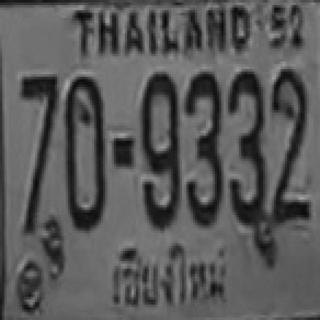N00: (140, 70, 178, 170)
N02: (228, 70, 263, 173)
N07: (20, 73, 57, 160)
P11: (106, 235, 232, 313)
